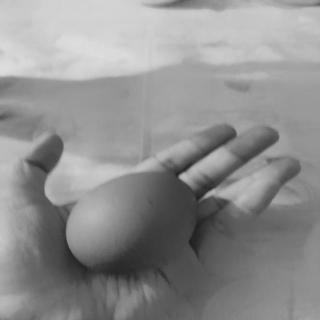Telur: (67, 170, 201, 274)
